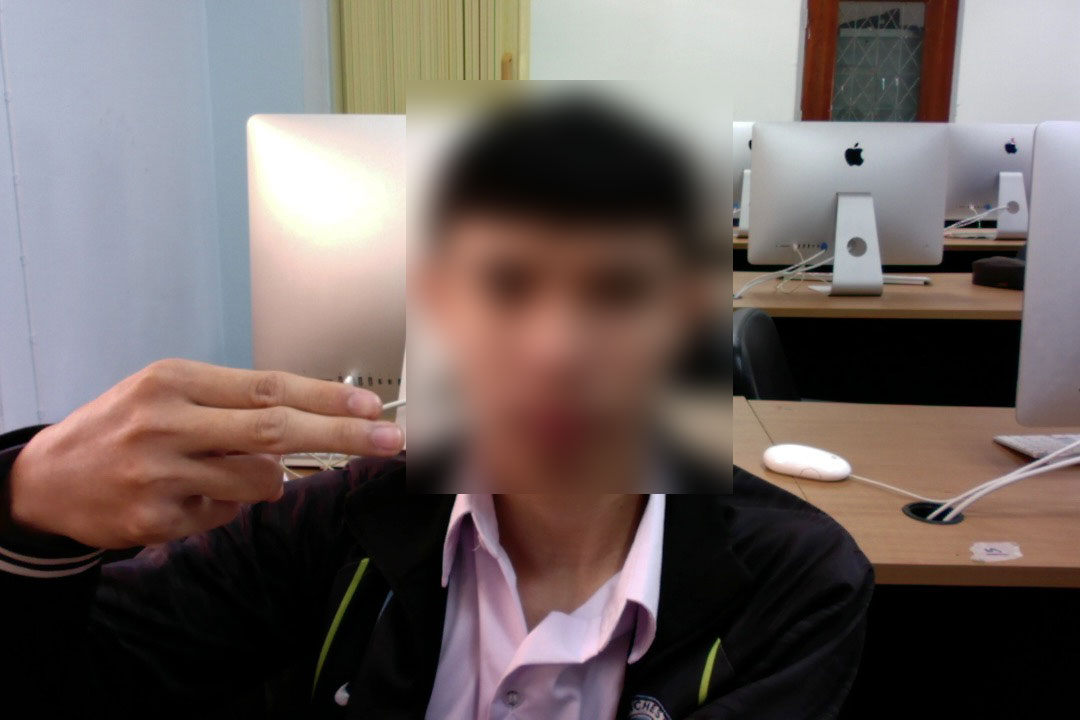hor: (7, 355, 415, 567)
